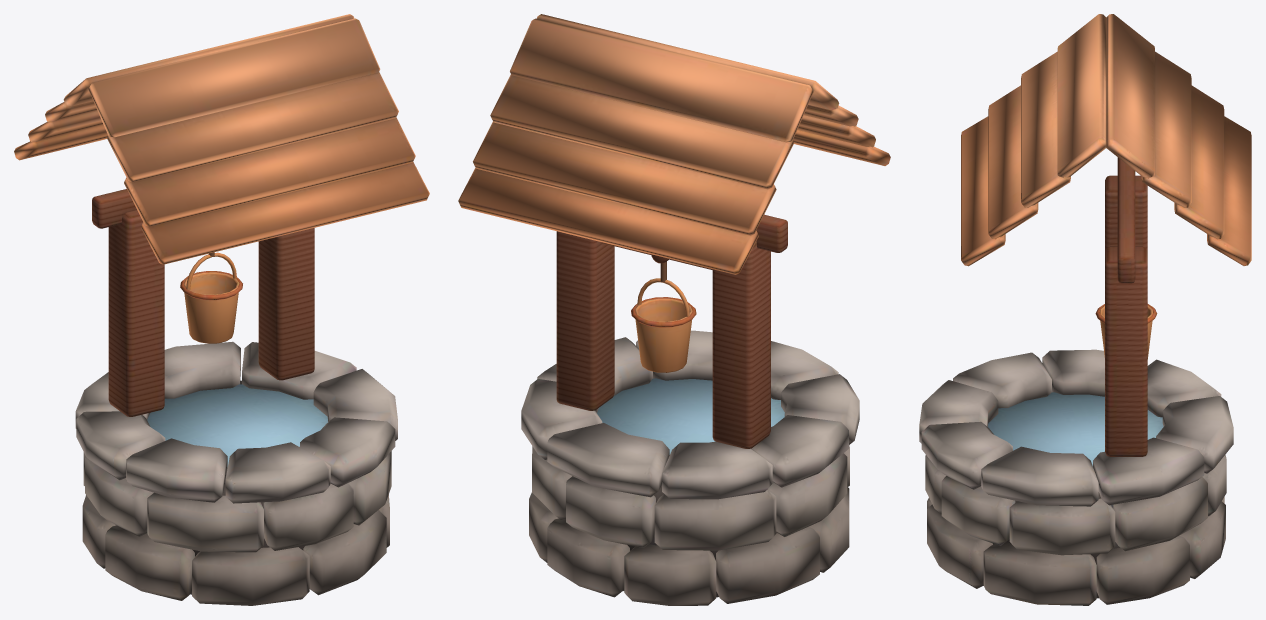
The model's file is well_3_high.glb.
3 renders of one model, left to right at view 1: azimuth 30°, elevation 25°; view 2: azimuth 150°, elevation 25°; view 3: azimuth 270°, elevation 25°, orthographic. The views are drawn at different scales.
Parts seen in each view (by area): view 1: well_3; view 2: well_3; view 3: well_3.
Part boxes in pixels (<box>): well_3: <box>14,14,429,605</box>; well_3: <box>458,14,890,605</box>; well_3: <box>919,14,1251,605</box>.
Size of the model in its own units: 1.25 by 2.06 by 1.32.
1 material, 1 textured.
